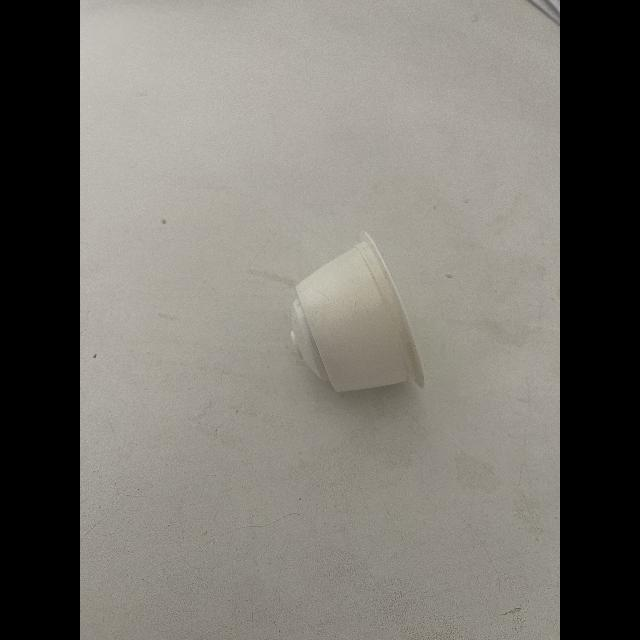intact_capsule: (274, 227, 442, 418)
